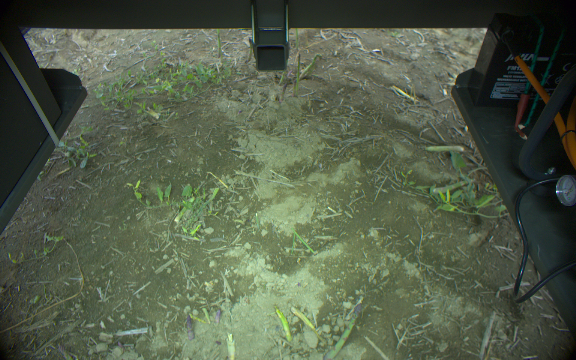aspa: (325, 302, 365, 360), (286, 305, 323, 339), (271, 304, 293, 340), (425, 140, 467, 158), (298, 51, 322, 77), (292, 51, 303, 97)
